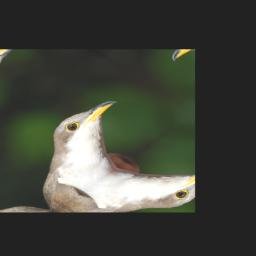Cuckoo: (0, 93, 166, 212)
